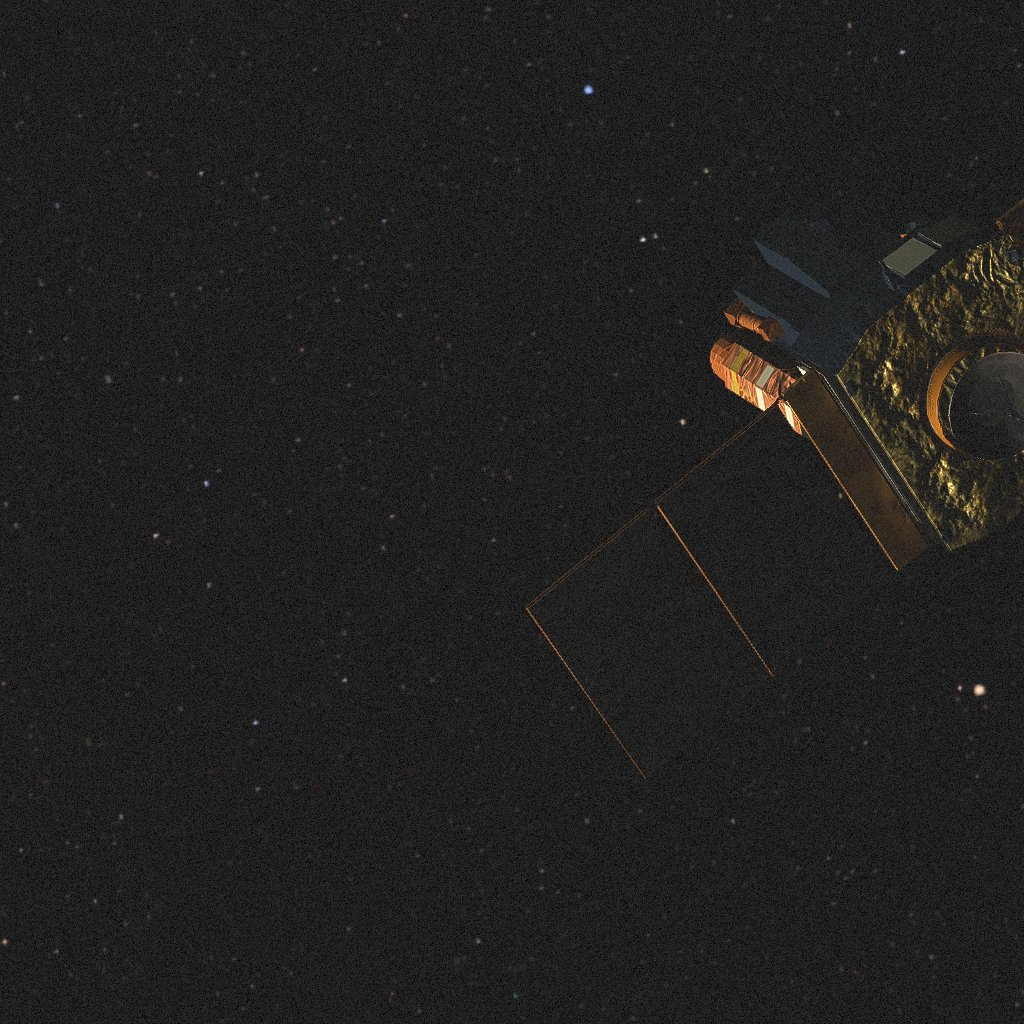soho: (525, 197, 1024, 778)
